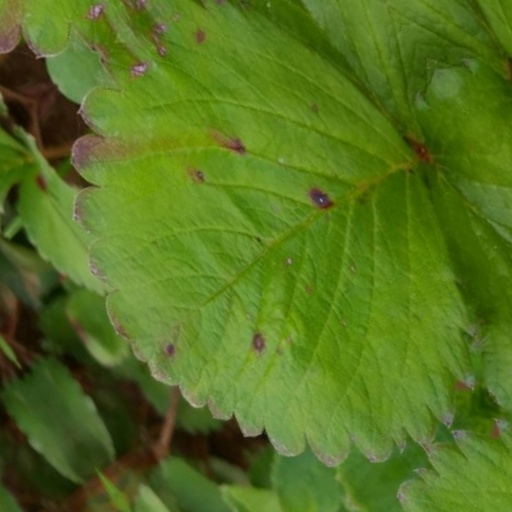Leaf Spot: (96, 0, 445, 511), (359, 0, 511, 308), (354, 243, 511, 511), (82, 314, 159, 506)
